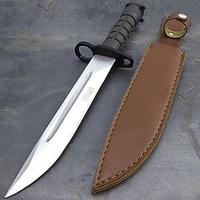knife: (2, 4, 143, 199)
